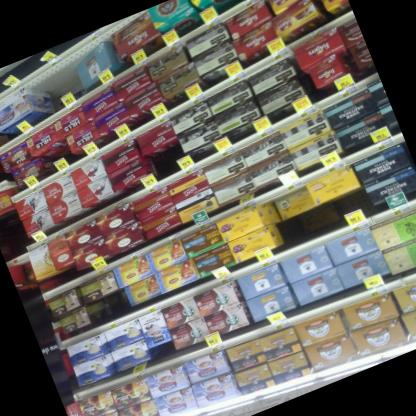empty_space: (24, 59, 87, 118)
